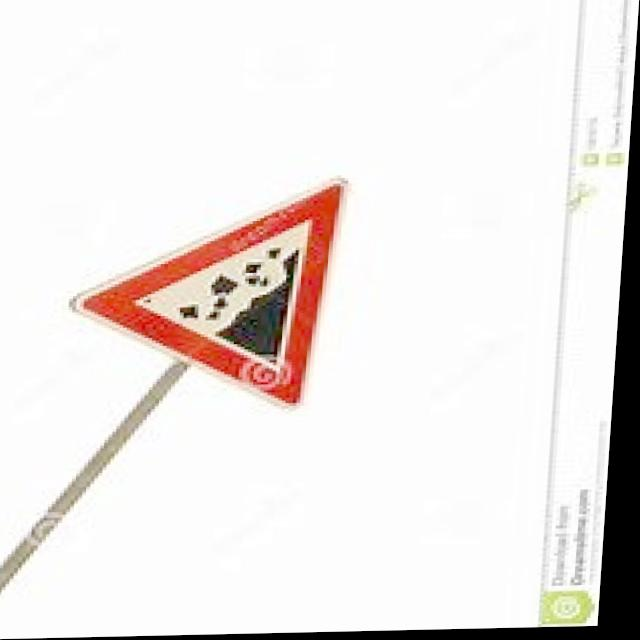FALLING_ROCKS: (47, 177, 353, 422)
